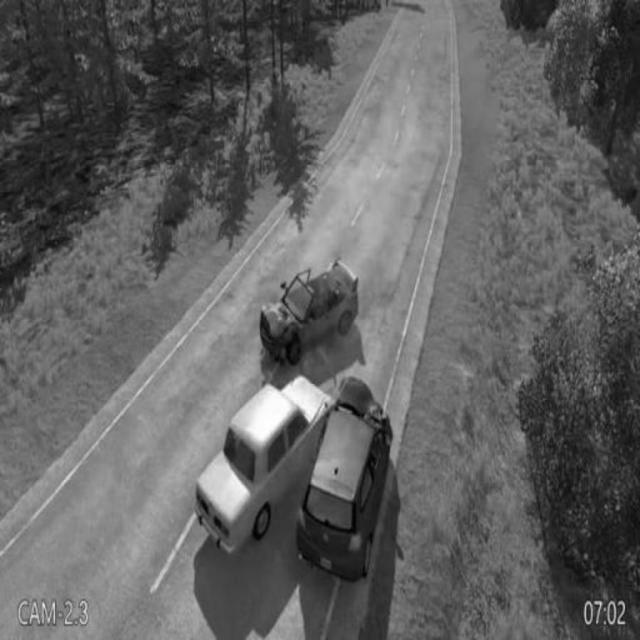accident: (211, 382, 378, 572)
vehicle: (257, 260, 363, 358)
